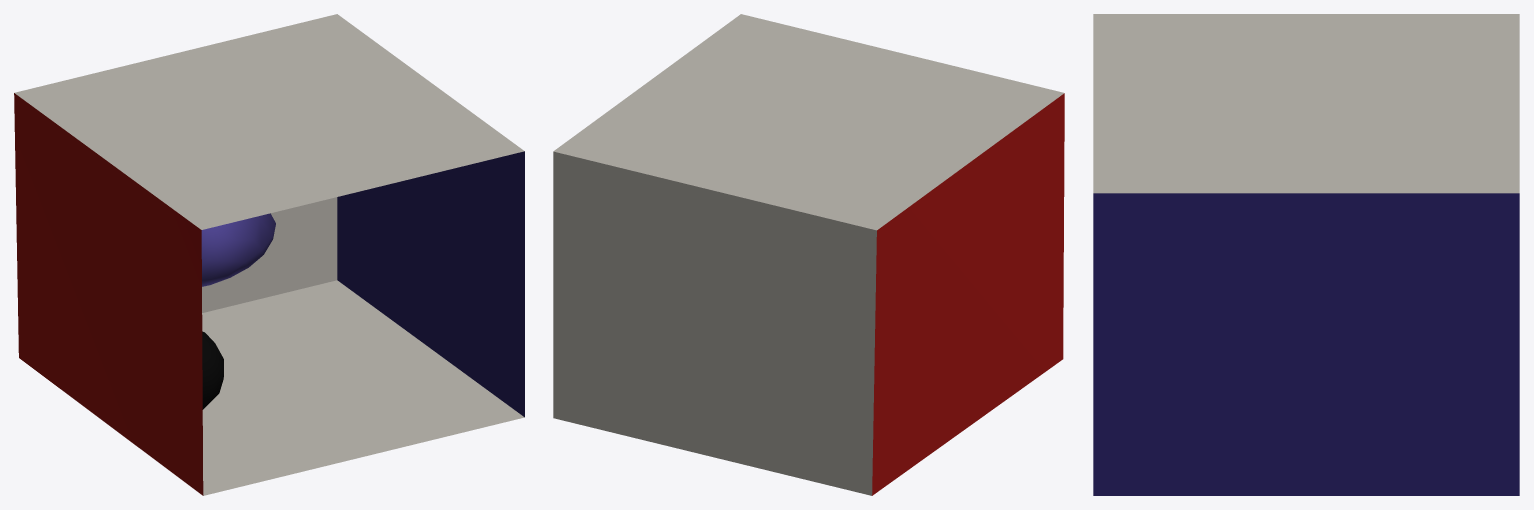
File: CornellBox-Ellipsoid-6.obj
3 views of the same model, side by side, from view 1: azimuth 30°, elevation 25°; view 2: azimuth 150°, elevation 25°; view 3: azimuth 270°, elevation 25° (orthographic). The views are drawn at different scales.
Parts seen in each view (by area): view 1: ceiling, leftWall, floor, rightWall, backWall, leftSphere, rightSphere; view 2: backWall, ceiling, leftWall; view 3: rightWall, ceiling.
Boxes of the visible parts, <box> form: ceiling: <box>14,14,524,229</box>; leftWall: <box>14,93,203,495</box>; floor: <box>202,280,524,495</box>; rightWall: <box>337,151,524,417</box>; backWall: <box>202,197,337,312</box>; leftSphere: <box>201,213,275,286</box>; rightSphere: <box>202,331,223,409</box>; backWall: <box>553,151,876,495</box>; ceiling: <box>553,14,1064,230</box>; leftWall: <box>872,93,1064,495</box>; rightWall: <box>1093,193,1519,495</box>; ceiling: <box>1093,14,1519,193</box>.
Size of the model in its own units: 2.02 by 1.59 by 2.03.
